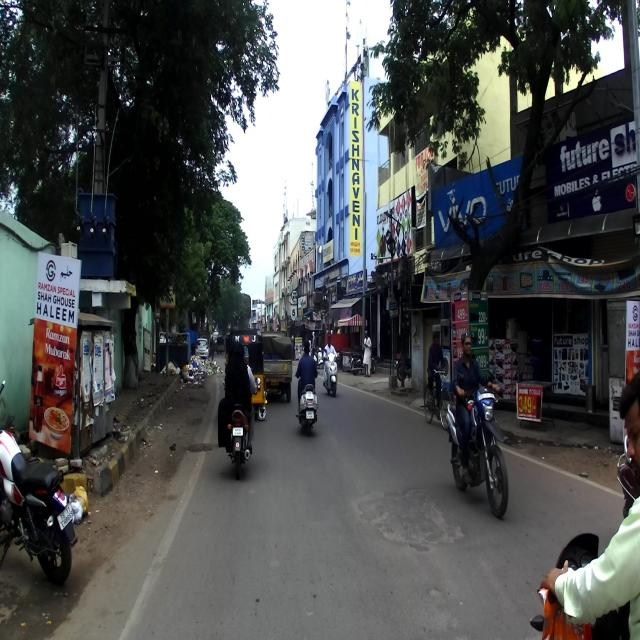motorcycle_Hero: (445, 381, 509, 519), (222, 373, 260, 481)
motorcycle_bajaj: (0, 378, 78, 586)
scooter: (296, 388, 319, 432), (322, 346, 339, 396)
